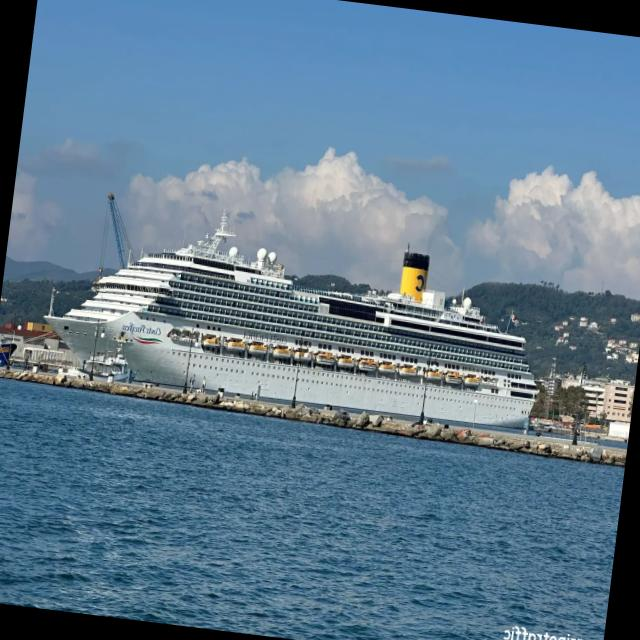Cruise: (47, 212, 534, 427)
